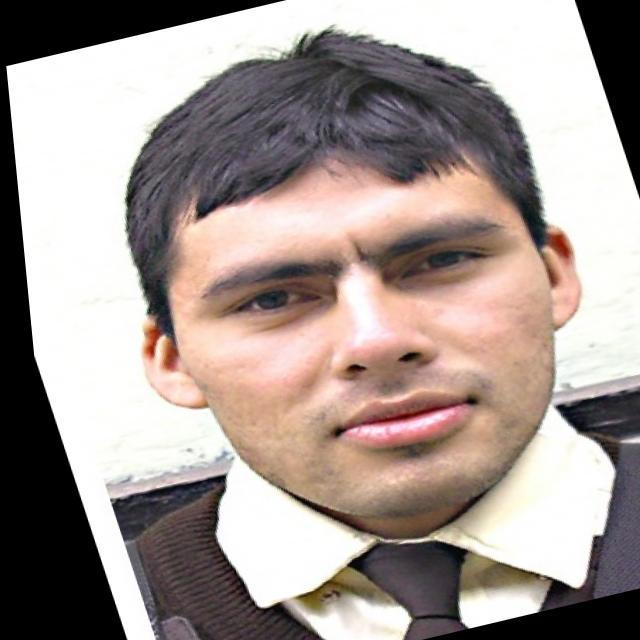Nonhelmet: (95, 23, 600, 533)
